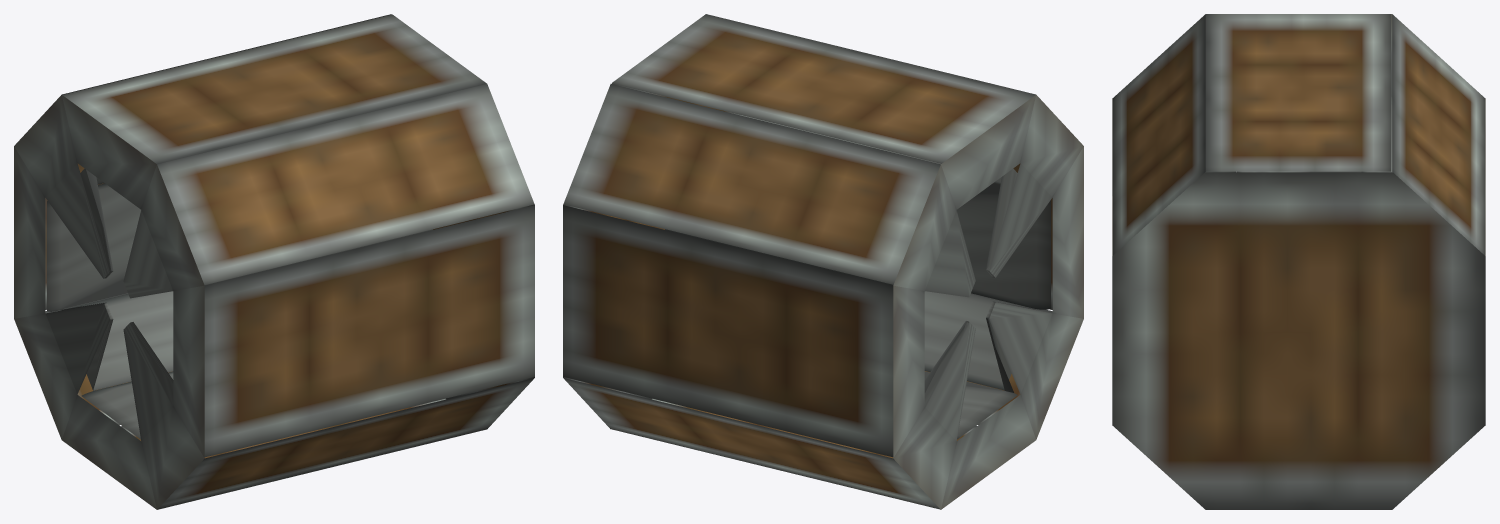
Rendered from motor_hull.obj.
The picture shows the model from 3 angles, left to right: view 1: azimuth 30°, elevation 25°; view 2: azimuth 150°, elevation 25°; view 3: azimuth 270°, elevation 25°; orthographic projection. The views are drawn at different scales.
Visible parts, largest first — view 1: stator; view 2: stator; view 3: stator.
Boxes of the visible parts, box(x1,y1,x2,y2) form: stator: box(14, 14, 534, 509); stator: box(563, 14, 1083, 509); stator: box(1112, 14, 1485, 509).
Bounding box in the file's own units: 1 × 1 × 1.
